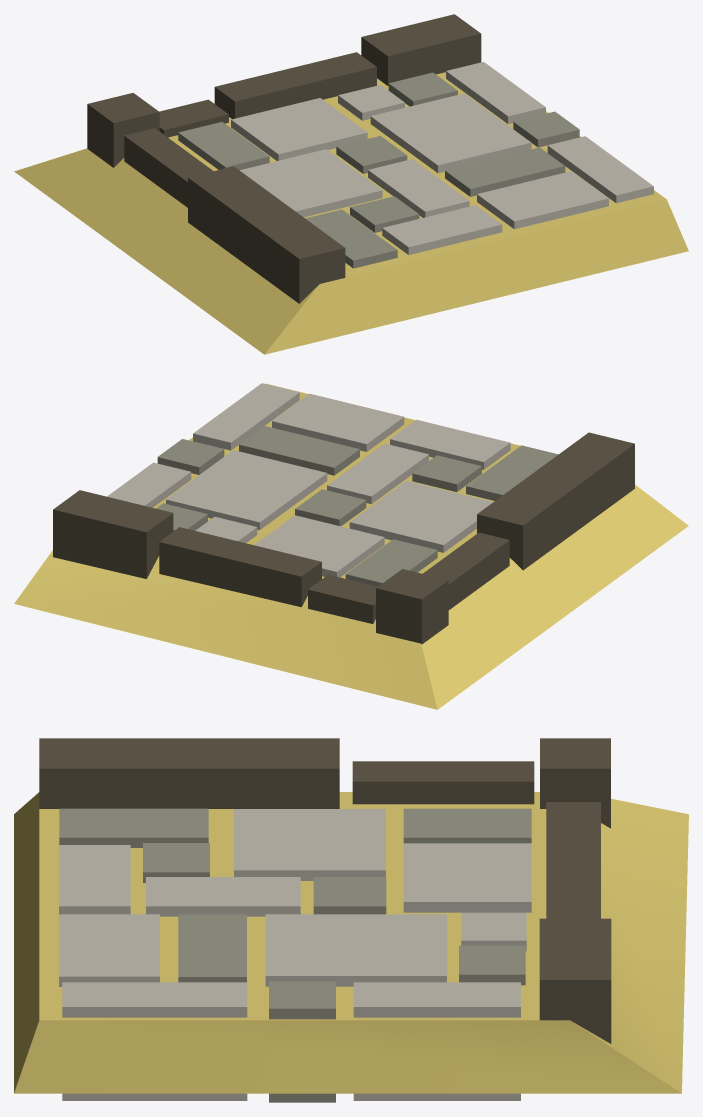
File: ElbowFilled.fbx
The picture shows the model from 3 angles, top to bottom: view 1: azimuth 30°, elevation 25°; view 2: azimuth 150°, elevation 25°; view 3: azimuth 270°, elevation 25°; orthographic projection. The views are drawn at different scales.
Parts seen in each view (by area): view 1: Stone - Elbow Filled; view 2: Stone - Elbow Filled; view 3: Stone - Elbow Filled.
Boxes of the visible parts, left/top/right/bottom form: Stone - Elbow Filled: left=14, top=14, right=688, bottom=354; Stone - Elbow Filled: left=14, top=383, right=688, bottom=709; Stone - Elbow Filled: left=14, top=738, right=688, bottom=1102.
Size of the model in its own units: 92.45 by 19.07 by 94.42.
